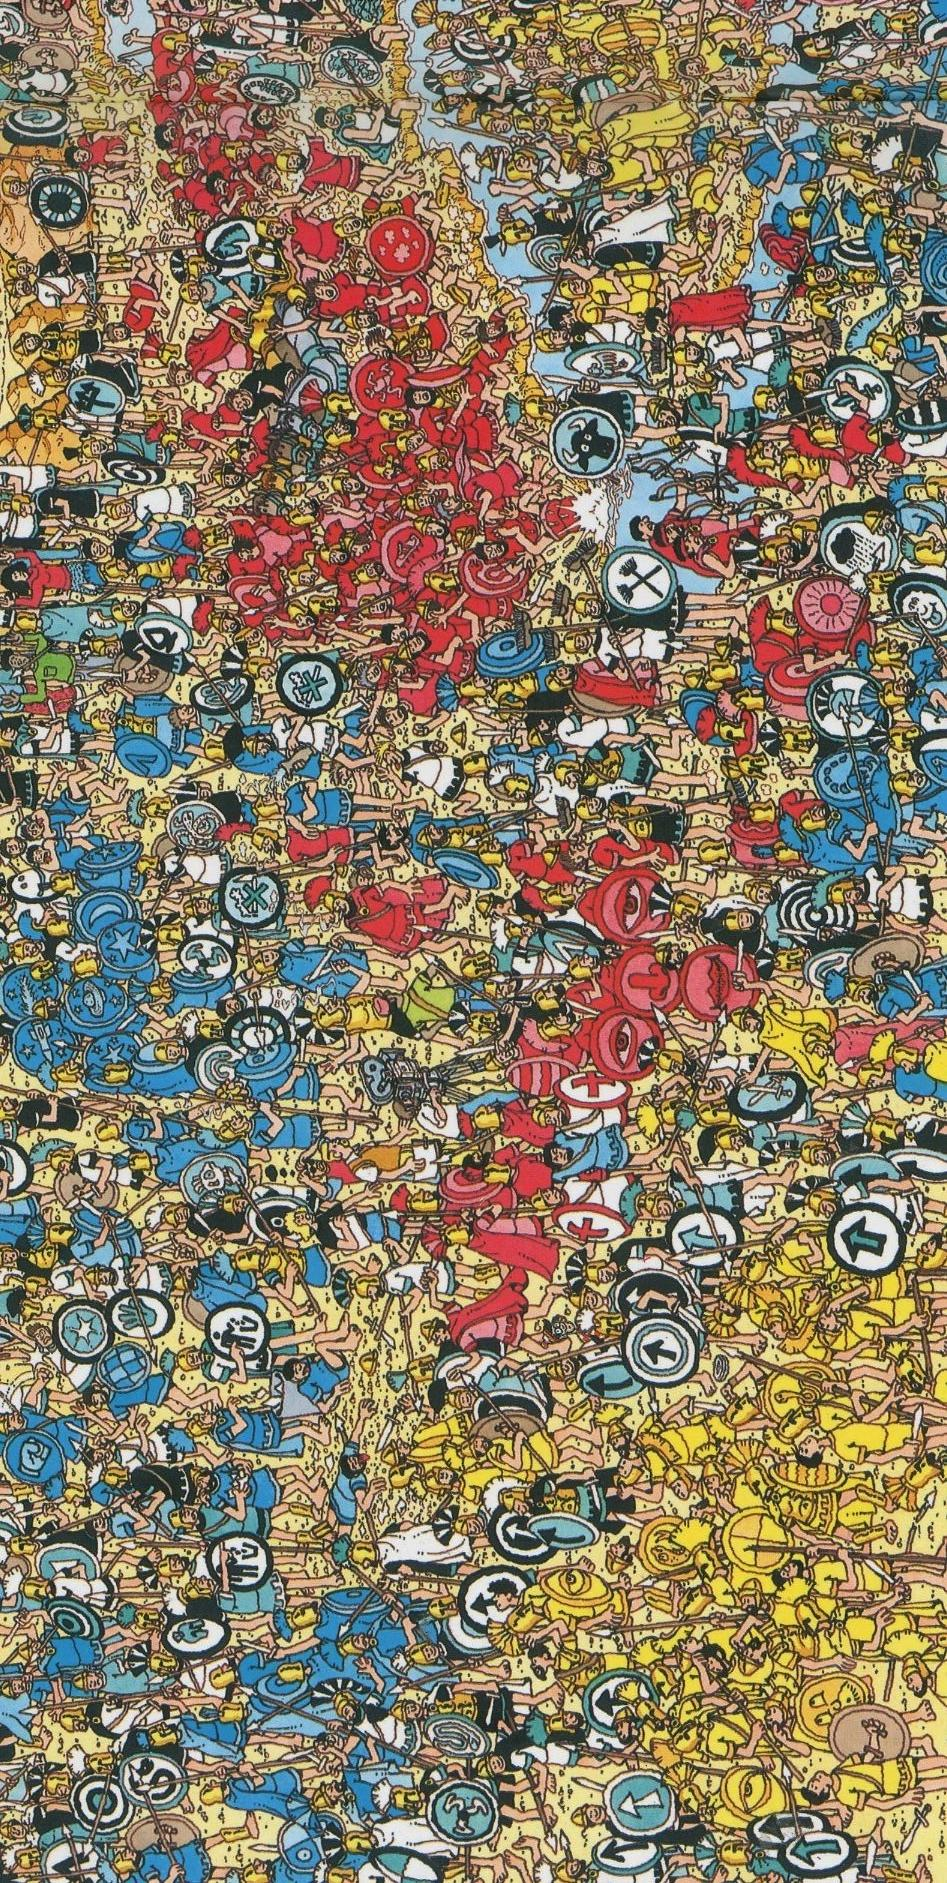waldos: (534, 1314, 602, 1354)
